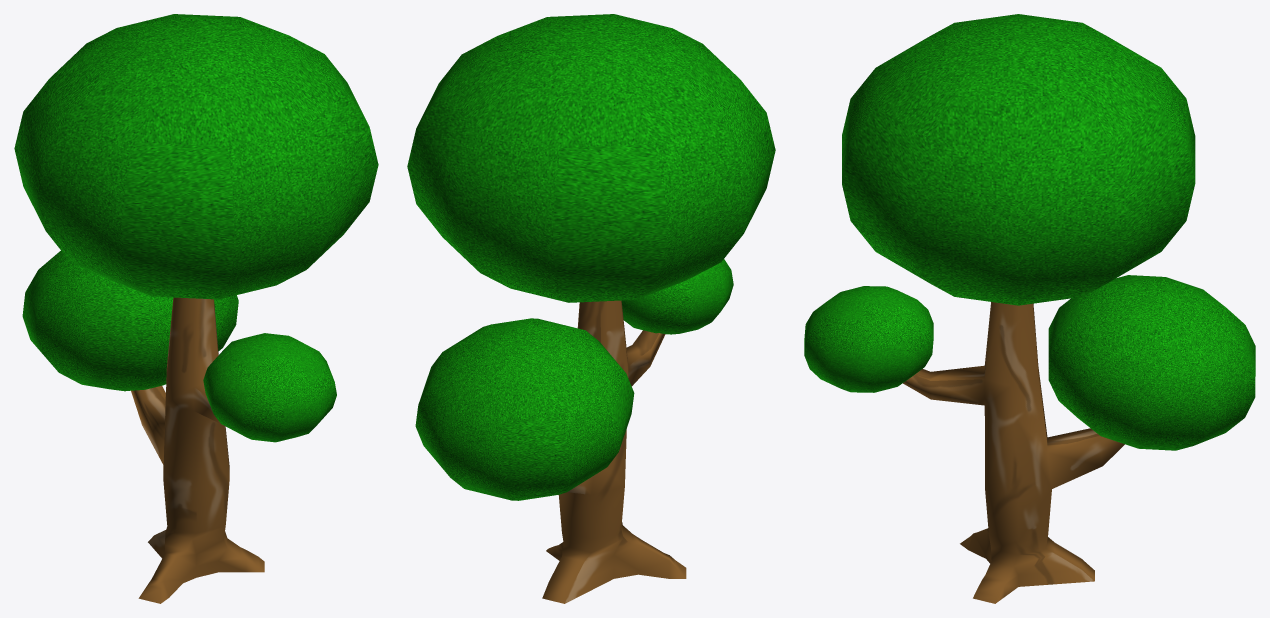
Rendered from tree.fbx.
3 renders of one model, left to right at view 1: azimuth 30°, elevation 25°; view 2: azimuth 150°, elevation 25°; view 3: azimuth 270°, elevation 25°, orthographic.
Parts seen in each view (by area): view 1: pSphere4; view 2: pSphere4; view 3: pSphere4.
Part boxes in pixels (x1,y1,x2,y2): pSphere4: (14, 14, 378, 603); pSphere4: (407, 14, 775, 603); pSphere4: (804, 14, 1255, 603).
Size of the model in its own units: 19.44 by 31.15 by 23.61.
